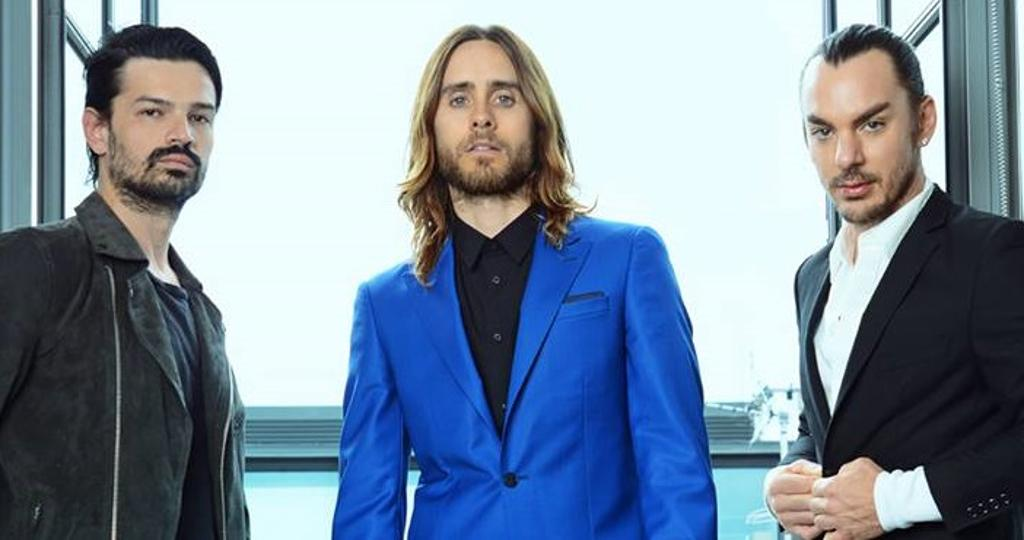face: (804, 58, 914, 224), (434, 42, 538, 194), (114, 58, 216, 198)
